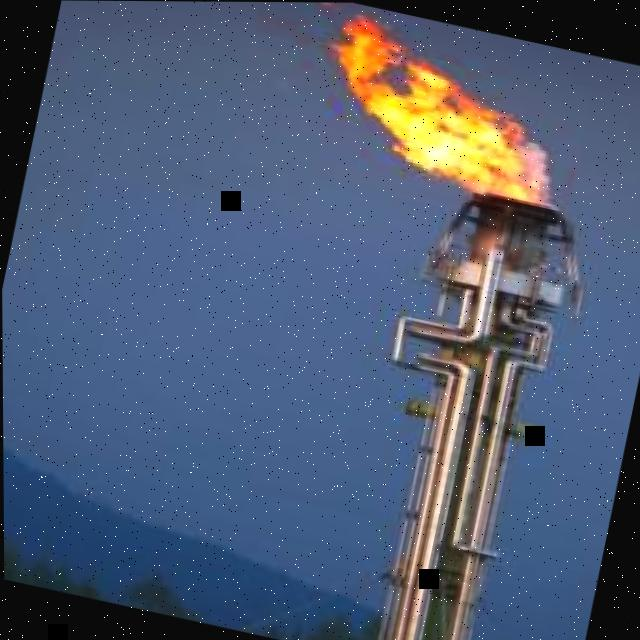fire: (328, 14, 541, 200)
